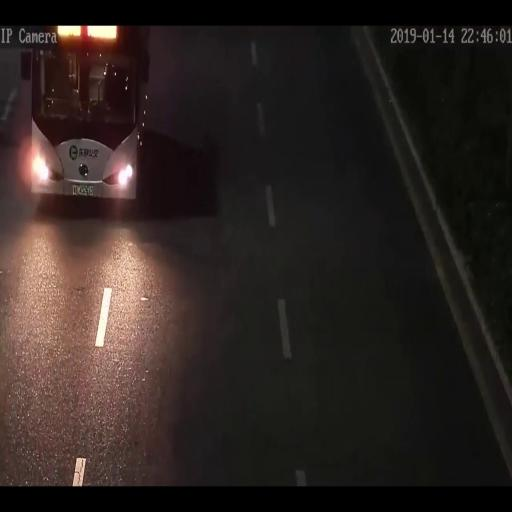License plate: (72, 184, 94, 196)
Vehicle: (20, 26, 149, 200)
